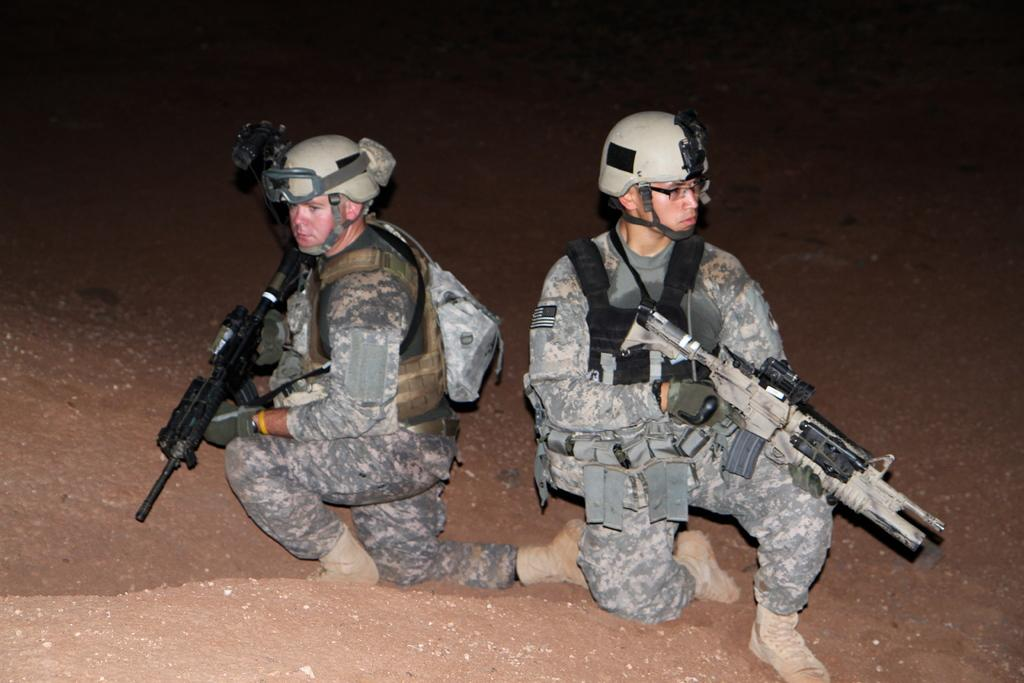Rifle: (630, 304, 948, 554), (134, 242, 326, 518)
